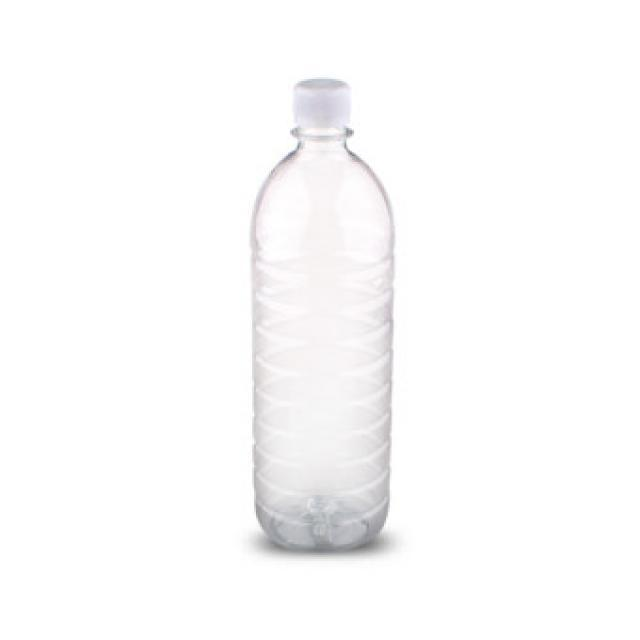plastic_bottle: (246, 79, 392, 552)
